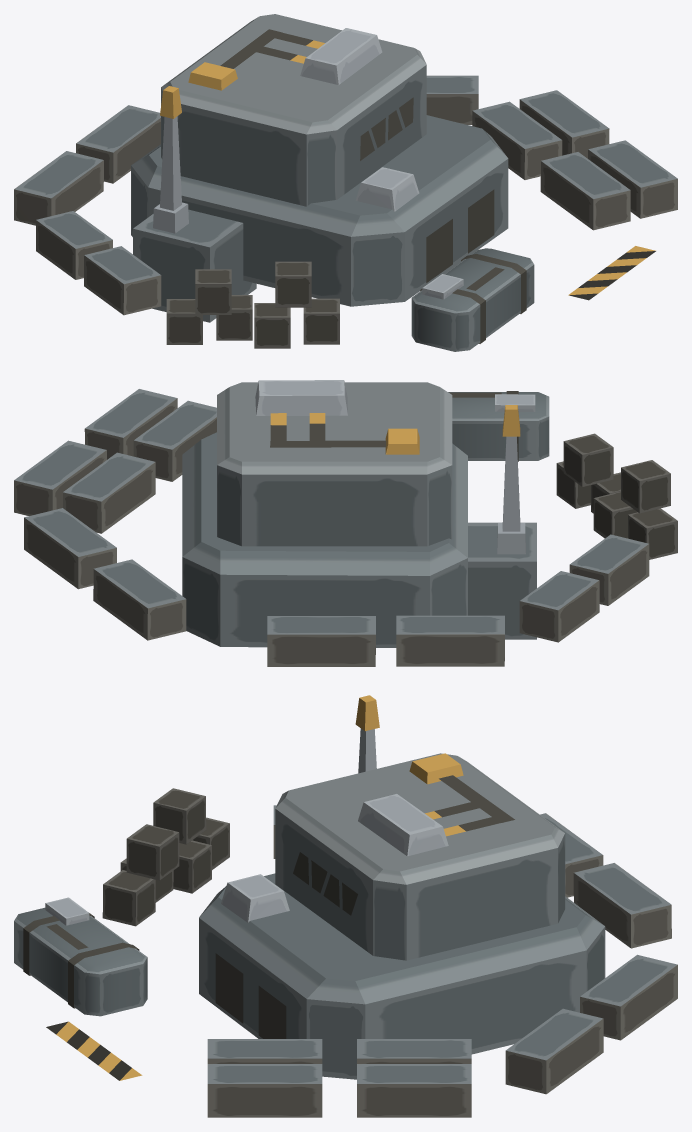
File: encampment1.FBX
3 renders of one model, top to bottom at view 1: azimuth 30°, elevation 25°; view 2: azimuth 150°, elevation 25°; view 3: azimuth 270°, elevation 25°, orthographic. The views are drawn at different scales.
Parts seen in each view (by area): view 1: Encampment_lv1, a; view 2: Encampment_lv1; view 3: Encampment_lv1, a.
Boxes of the visible parts, box(x1,y1,x2,y2) form: Encampment_lv1: box(14, 14, 677, 351); a: box(355, 167, 419, 211); Encampment_lv1: box(14, 380, 677, 666); Encampment_lv1: box(14, 695, 677, 1117); a: box(221, 874, 289, 922).
Bounding box in the file's own units: 153 × 154 × 59.1.
